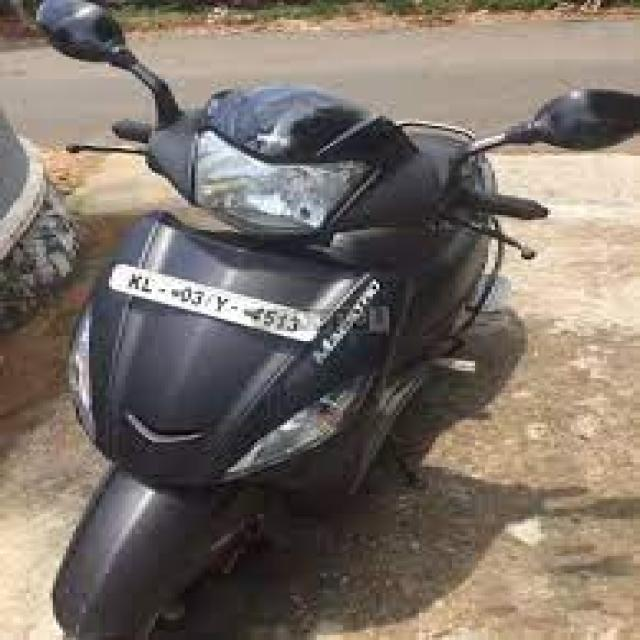number plate: (108, 257, 318, 346)
